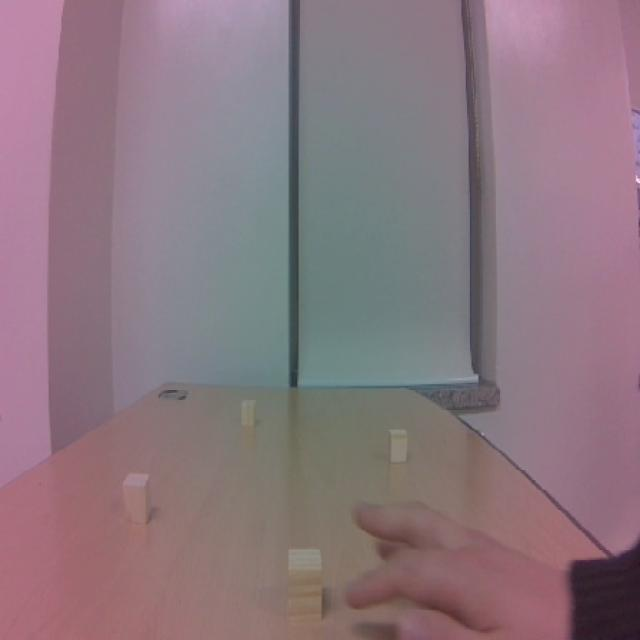obstacle: (276, 539, 337, 630), (114, 468, 154, 530), (378, 426, 418, 470)
